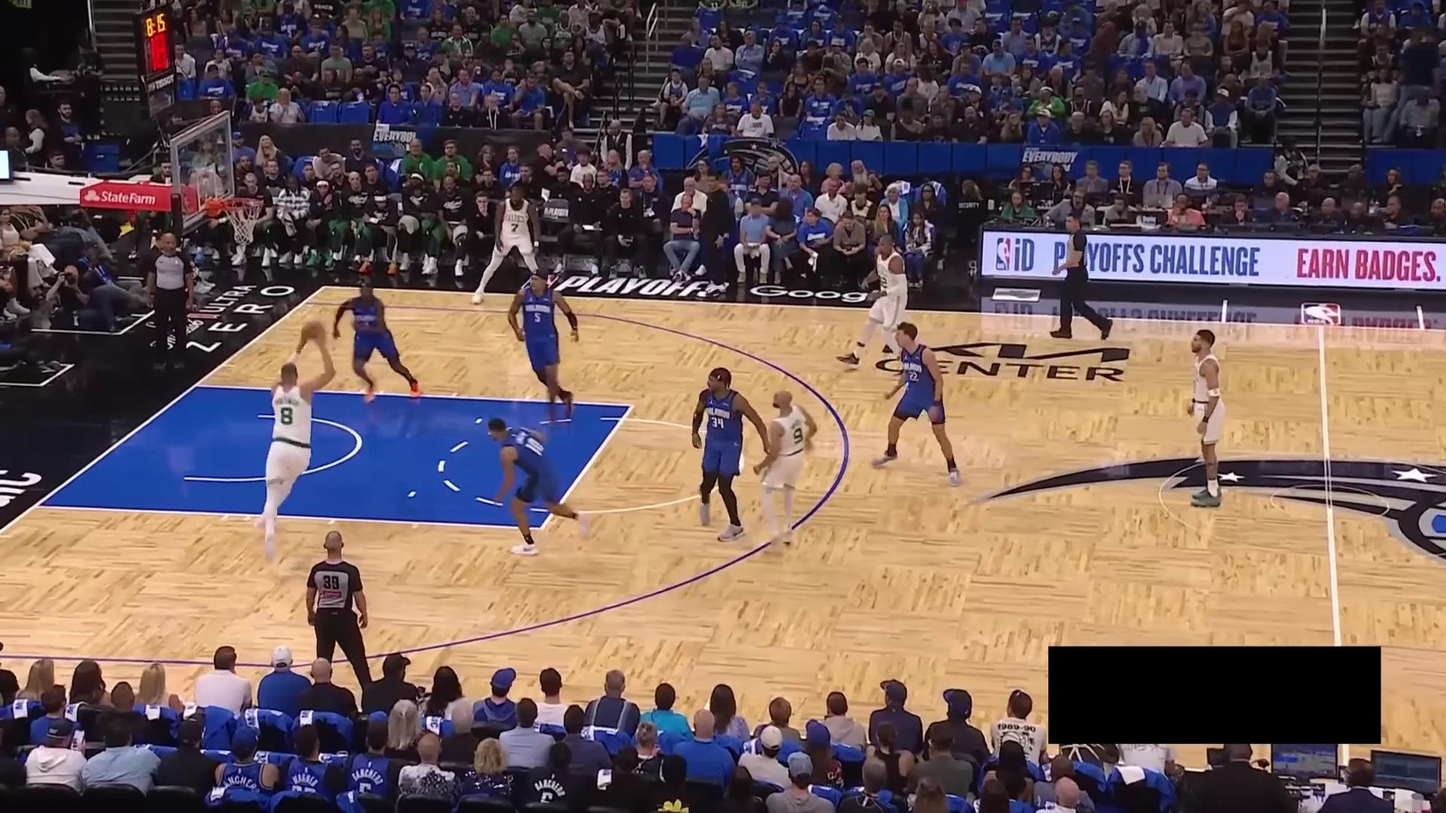ball: (302, 319, 326, 344)
number: (523, 435, 545, 457), (278, 405, 297, 425), (792, 428, 806, 444), (876, 273, 888, 289), (711, 417, 725, 429), (909, 371, 920, 382), (510, 223, 519, 232), (534, 312, 541, 323)
player: (486, 414, 599, 560), (872, 314, 962, 489), (689, 362, 770, 542), (503, 264, 581, 419), (752, 384, 821, 558), (830, 228, 911, 376), (328, 278, 424, 401), (470, 180, 545, 307), (1185, 324, 1230, 507)
player-in-possession: (249, 320, 342, 561)
referee: (296, 521, 380, 689), (1051, 213, 1117, 341), (142, 231, 199, 365)
rim: (218, 194, 265, 211)
